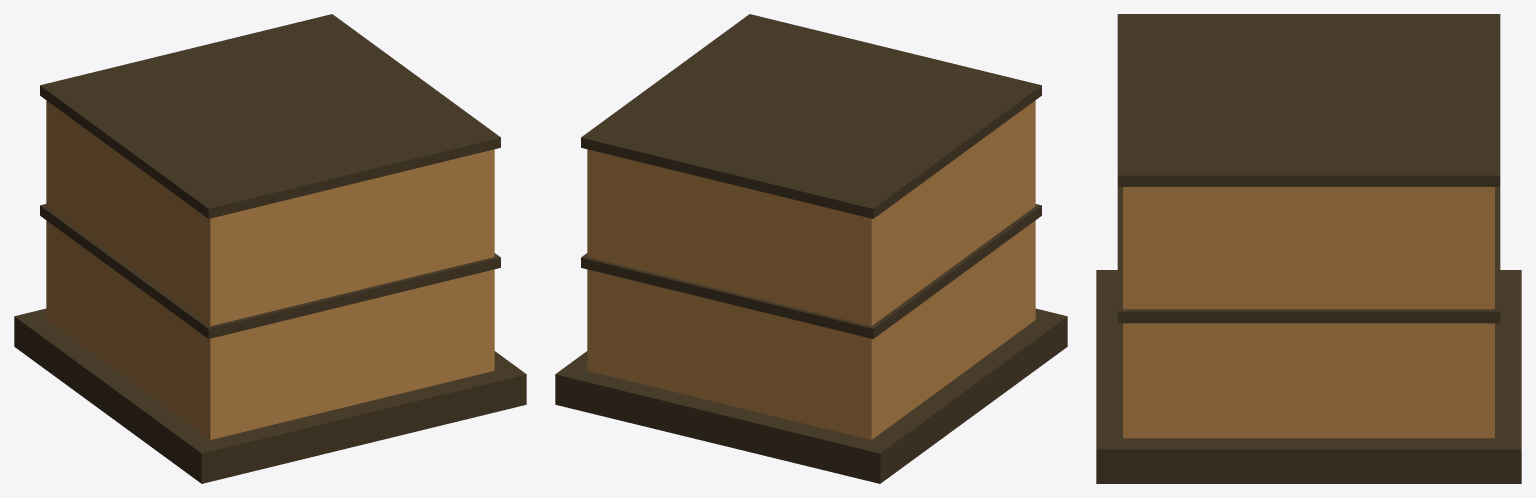
The model's file is hotel_connector.glb.
3 renders of one model, left to right at view 1: azimuth 30°, elevation 25°; view 2: azimuth 150°, elevation 25°; view 3: azimuth 270°, elevation 25°, orthographic. The views are drawn at different scales.
Visible parts, largest first — view 1: Box (×4); view 2: Box (×4); view 3: Box (×4).
Part boxes in pixels (x1,y1,x2,y2): Box (×4): (14,14,526,483); Box (×4): (555,14,1067,483); Box (×4): (1096,14,1521,483).
Bounding box in the file's own units: 0.672 × 0.5221 × 0.672.
